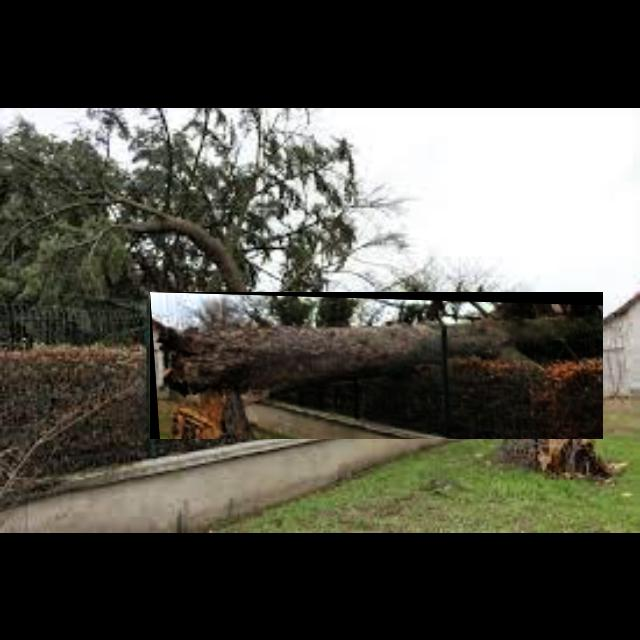Fallen Tree: (150, 292, 604, 440)
